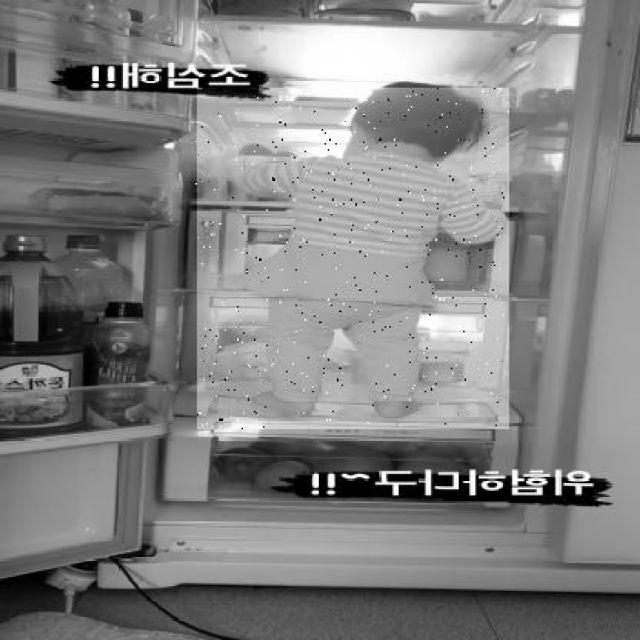child: (194, 88, 508, 430)
